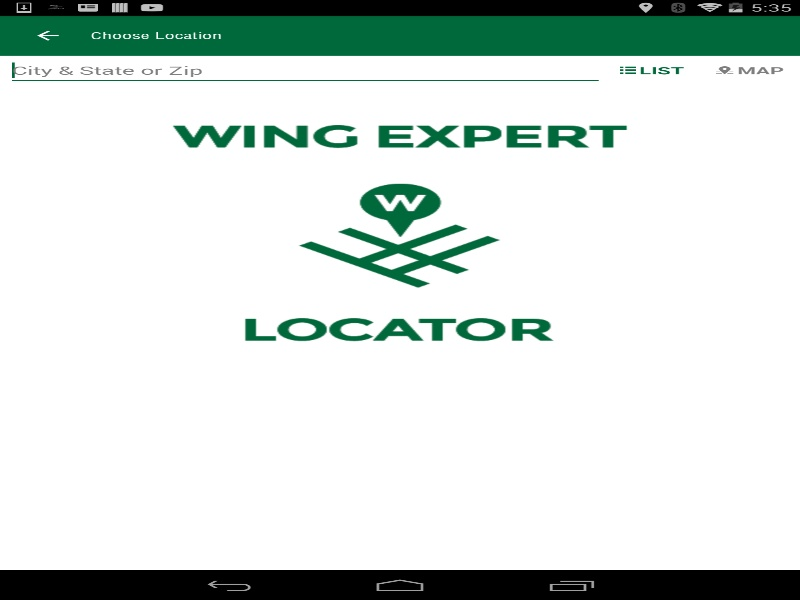Button: (700, 55, 800, 85), (604, 55, 700, 85), (10, 18, 85, 53), (700, 55, 749, 85), (604, 55, 652, 85)
Input: (6, 55, 604, 85)
